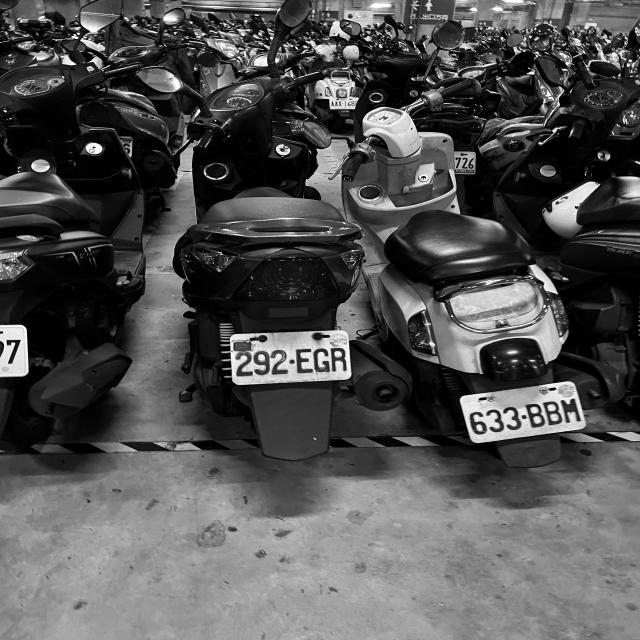-: (290, 356, 296, 364), (520, 415, 528, 419), (342, 102, 344, 104)
1: (343, 101, 348, 107)
2: (233, 351, 253, 377), (270, 350, 290, 374), (462, 158, 468, 168)
3: (485, 409, 508, 433), (503, 404, 523, 431)
6: (466, 411, 490, 436), (469, 157, 475, 169), (348, 101, 351, 107)
7: (6, 340, 22, 368), (456, 156, 462, 168)
8: (351, 101, 355, 107)
9: (251, 350, 271, 376)
A: (330, 101, 334, 107), (334, 100, 338, 106)
B: (541, 400, 566, 428), (559, 396, 582, 425), (524, 402, 548, 428)
E: (294, 346, 314, 374)
G: (313, 348, 331, 373)
R: (330, 346, 347, 374)
X: (338, 100, 342, 106)
plate: (461, 387, 586, 442), (230, 334, 354, 377)
